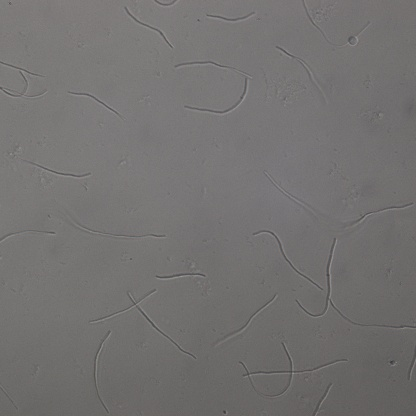Sensitive: (295, 237, 415, 329), (90, 288, 196, 358), (237, 342, 348, 399), (174, 61, 253, 114), (252, 232, 322, 288), (58, 210, 166, 240), (215, 293, 278, 344), (125, 8, 171, 46), (345, 202, 411, 226), (93, 331, 112, 413), (20, 159, 91, 179), (69, 92, 122, 116), (1, 226, 56, 245), (156, 269, 207, 282), (205, 10, 255, 23)
